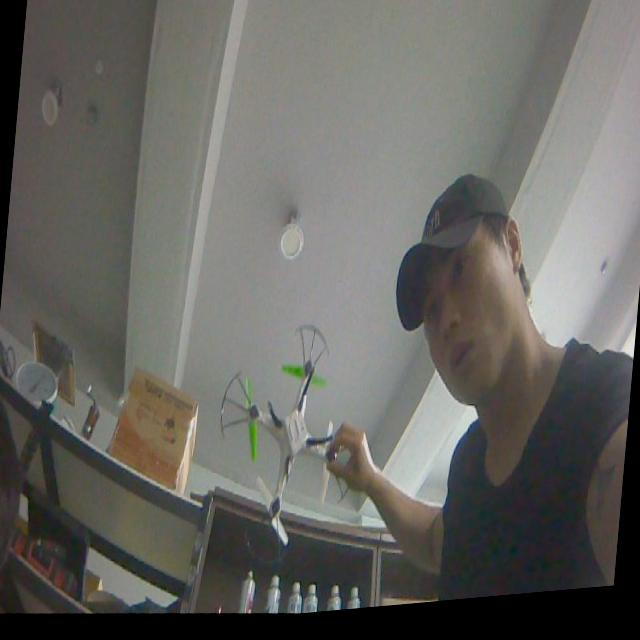drone: (206, 314, 370, 586)
